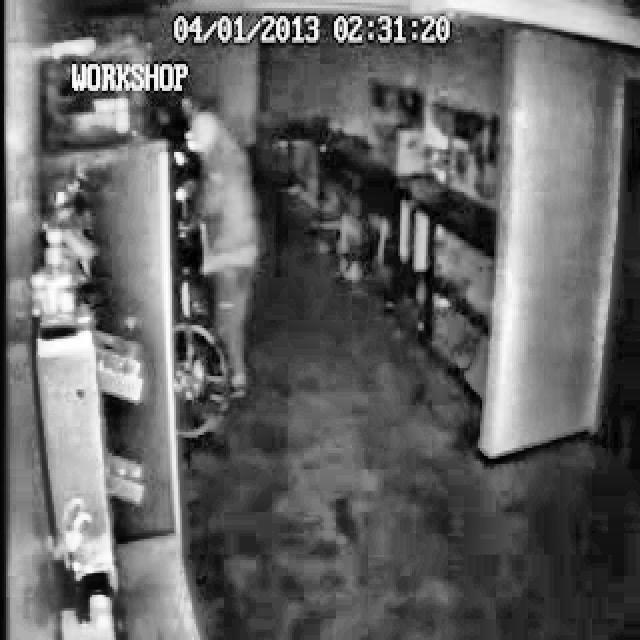Weapon: (181, 90, 361, 422)
